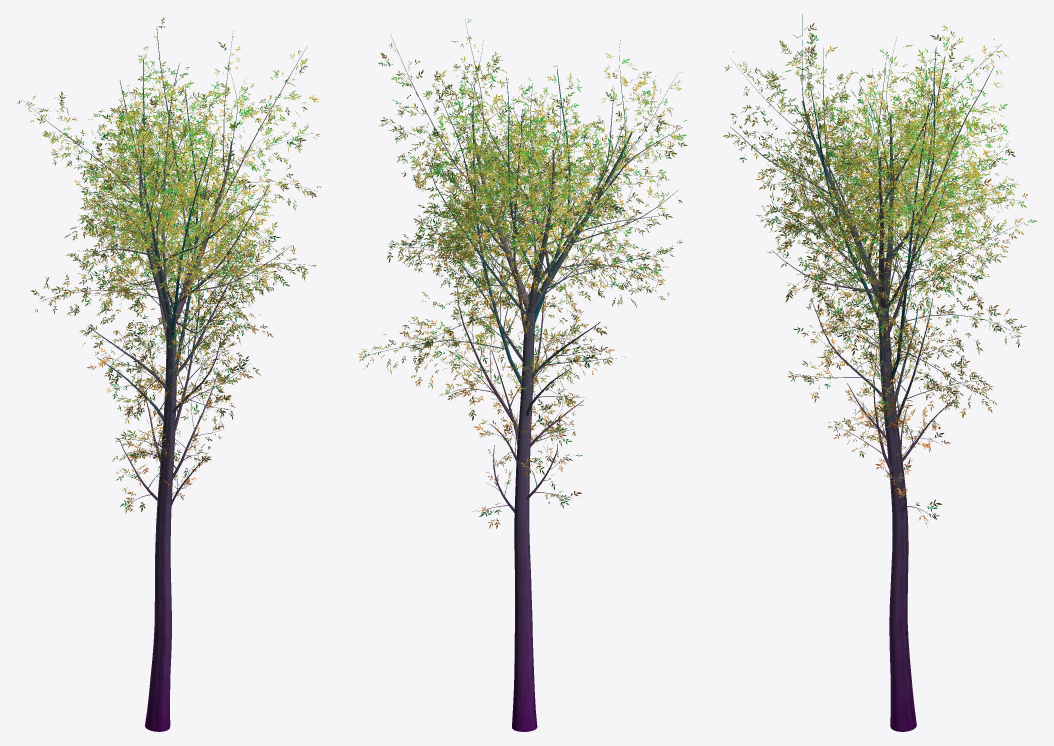
Rendered from asset.glb.
The picture shows the model from 3 angles, left to right: view 1: azimuth 30°, elevation 25°; view 2: azimuth 150°, elevation 25°; view 3: azimuth 270°, elevation 25°; orthographic projection. The views are drawn at different scales.
Parts seen in each view (by area): view 1: narrowleaf_cottonwood_LOD0; view 2: narrowleaf_cottonwood_LOD0; view 3: narrowleaf_cottonwood_LOD0.
Part boxes in pixels (box(x1,y1,x2,y2)): narrowleaf_cottonwood_LOD0: box(17, 17, 320, 731); narrowleaf_cottonwood_LOD0: box(358, 18, 687, 731); narrowleaf_cottonwood_LOD0: box(723, 14, 1037, 731).
Bounding box in the file's own units: 7.8 × 17.47 × 7.09.
2 materials, 2 textured.
